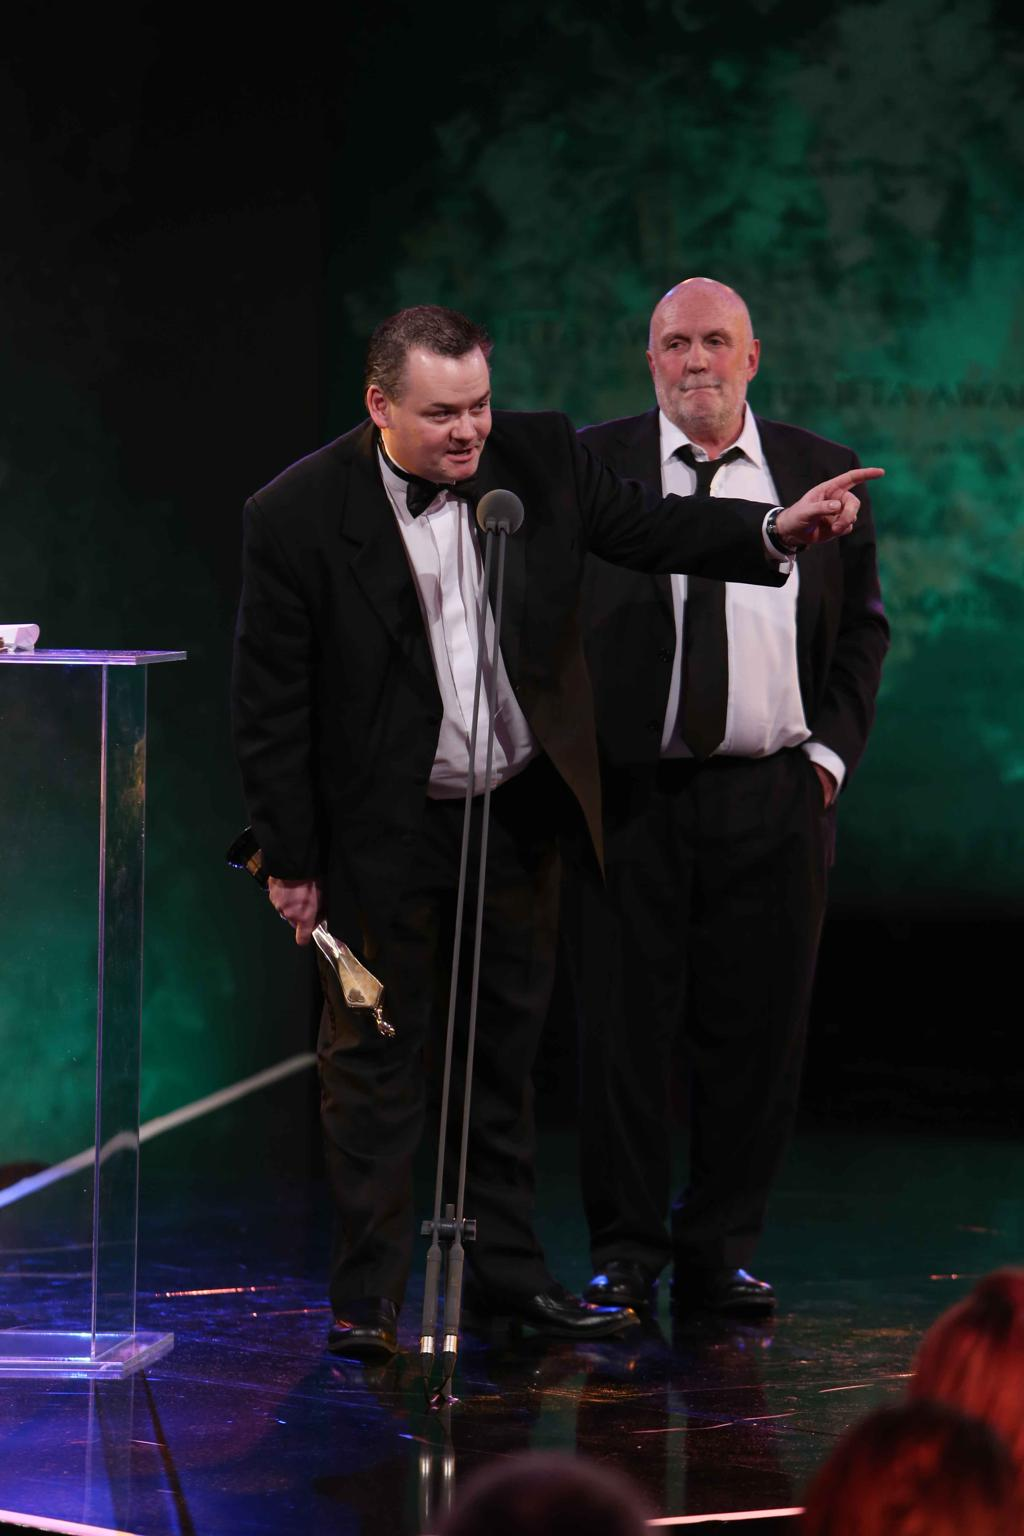face: (390, 342, 495, 486), (649, 279, 748, 426)
